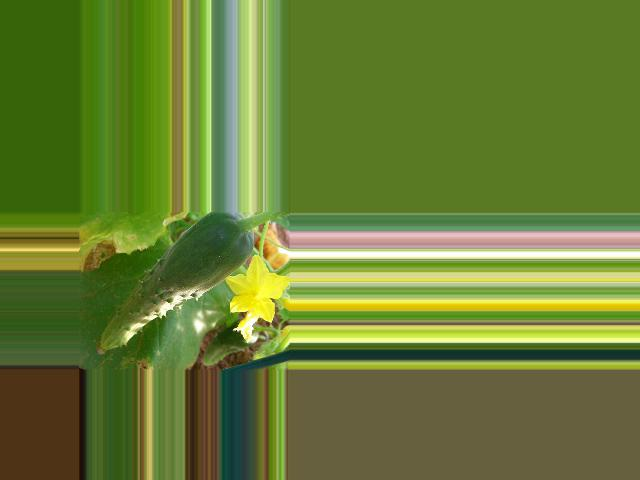cucumber: (96, 211, 254, 355)
